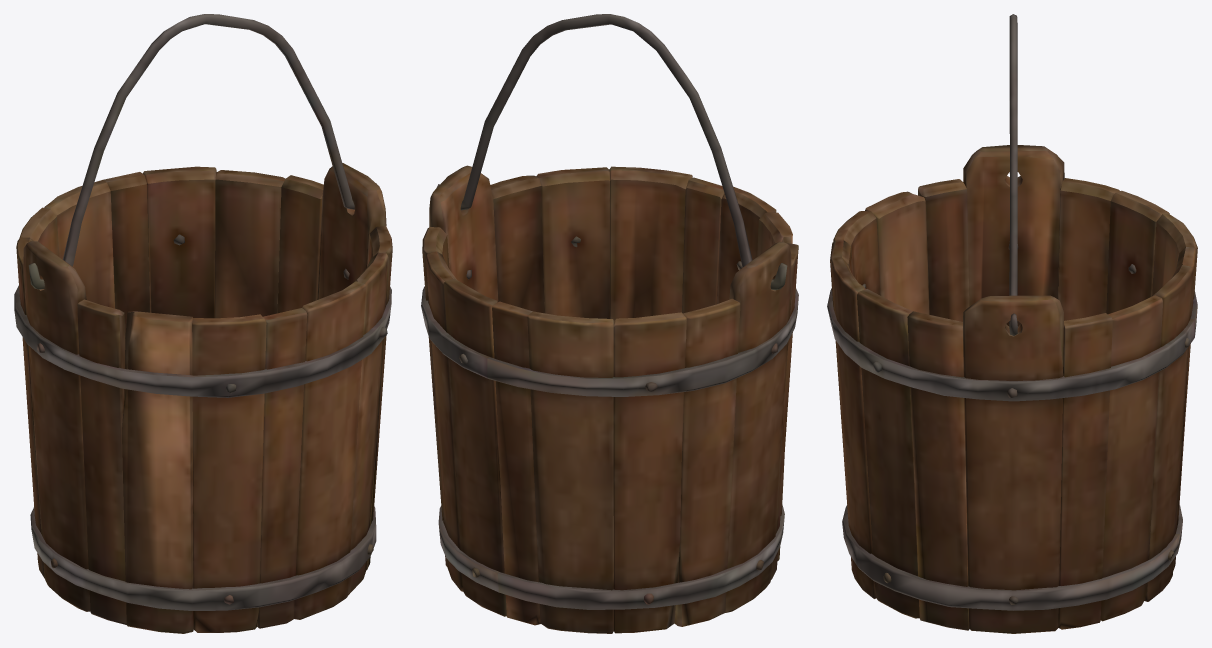
Rendered from wooden_bucket_01.glb.
3 renders of one model, left to right at view 1: azimuth 30°, elevation 25°; view 2: azimuth 150°, elevation 25°; view 3: azimuth 270°, elevation 25°, orthographic.
Parts seen in each view (by area): view 1: wooden_bucket_01; view 2: wooden_bucket_01; view 3: wooden_bucket_01.
Part boxes in pixels (x1=…): wooden_bucket_01: x1=14, y1=14, x2=392, y2=633; wooden_bucket_01: x1=421, y1=14, x2=798, y2=633; wooden_bucket_01: x1=827, y1=14, x2=1197, y2=633.
Bounding box in the file's own units: 0.3663 × 0.5499 × 0.3419.
1 material, 1 textured.
